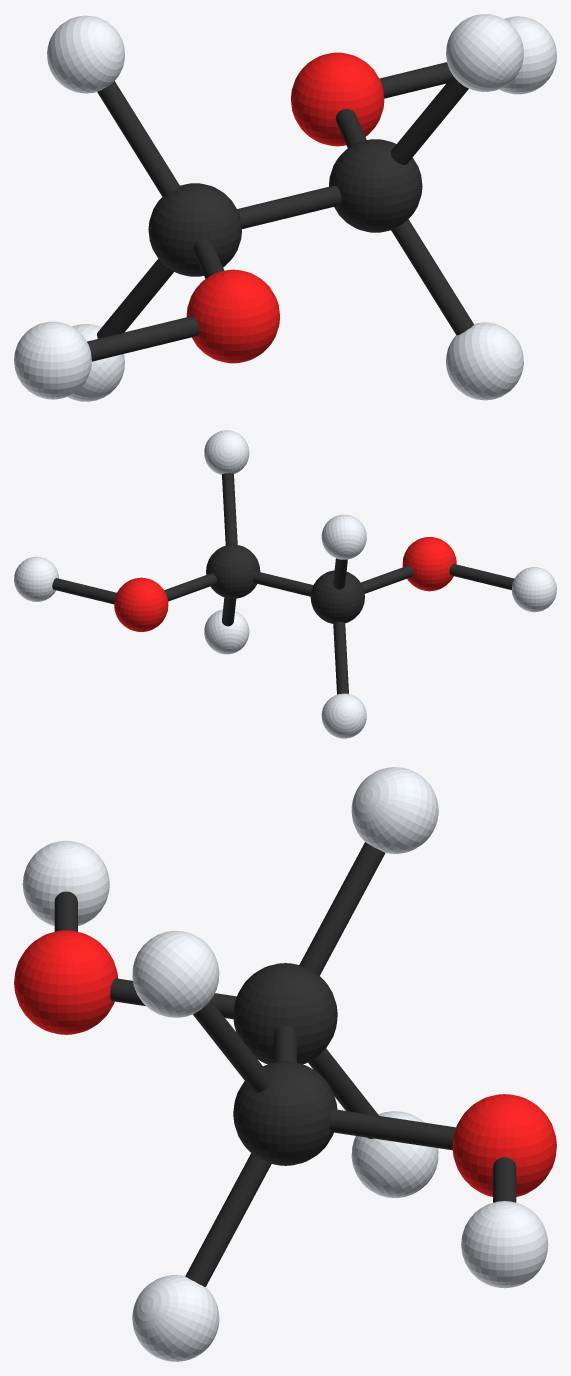
Rendered from glycol.fbx.
3 renders of one model, top to bottom at view 1: azimuth 30°, elevation 25°; view 2: azimuth 150°, elevation 25°; view 3: azimuth 270°, elevation 25°, orthographic. The views are drawn at different scales.
Parts seen in each view (by area): view 1: glycol; view 2: glycol; view 3: glycol.
Boxes of the visible parts, left/top/right/bottom form: glycol: left=14, top=14, right=556, bottom=401; glycol: left=14, top=430, right=556, bottom=738; glycol: left=14, top=767, right=556, bottom=1361.
Bounding box in the file's own units: 323 × 161 × 187.
